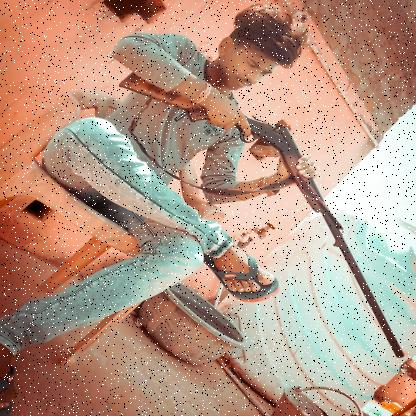rifle: (116, 60, 406, 360)
